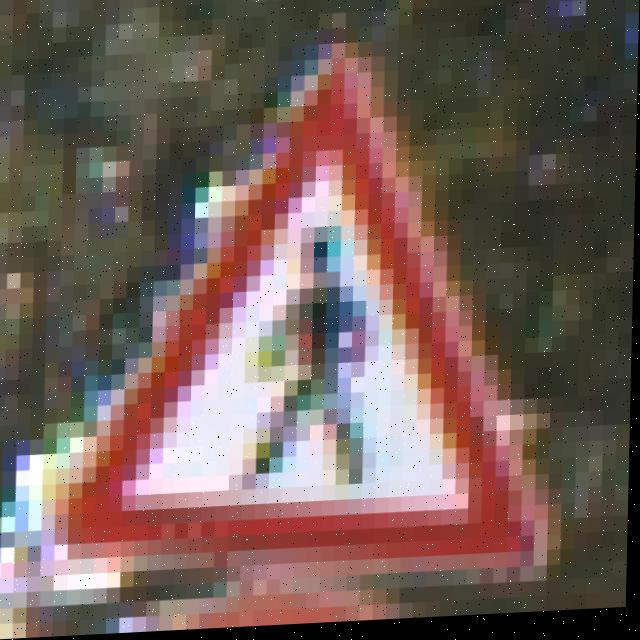crosswalk: (119, 63, 545, 633)
